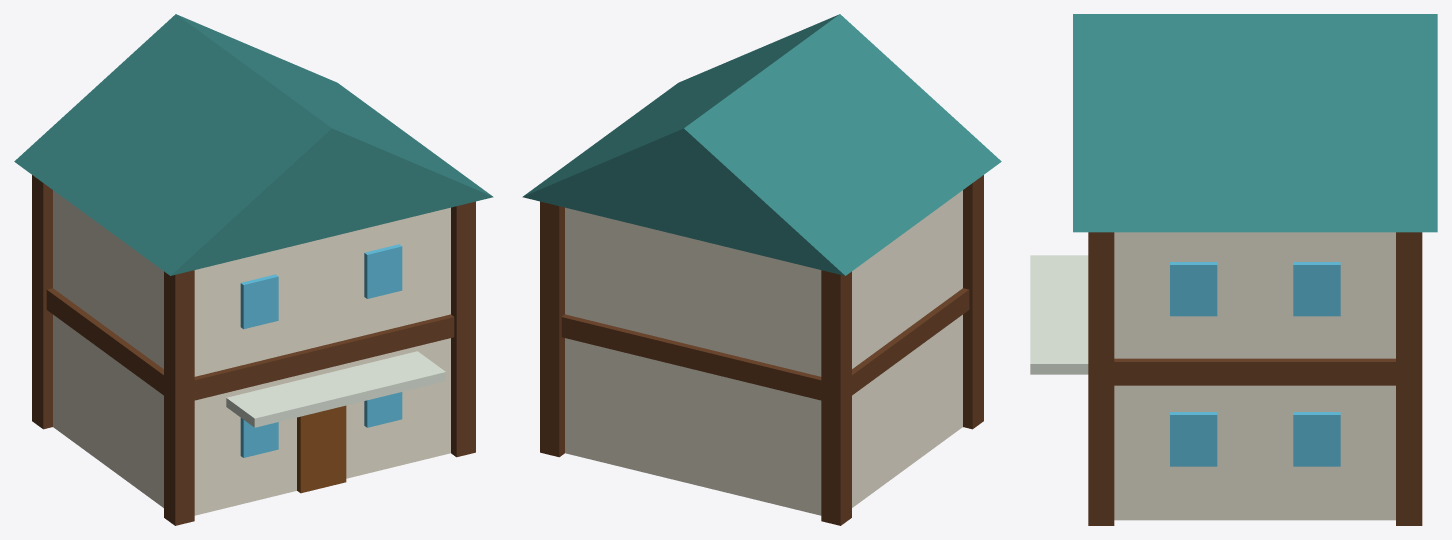
Rendered from house_teal.glb.
3 views of the same model, side by side, from view 1: azimuth 30°, elevation 25°; view 2: azimuth 150°, elevation 25°; view 3: azimuth 270°, elevation 25° (orthographic). The views are drawn at different scales.
Parts seen in each view (by area): view 1: awning; view 2: awning; view 3: awning.
Boxes of the visible parts, <box> form: awning: <box>14,14,493,525</box>; awning: <box>522,14,1001,525</box>; awning: <box>1030,14,1437,525</box>.
Size of the model in its own units: 1.84 by 1.99 by 1.72.
